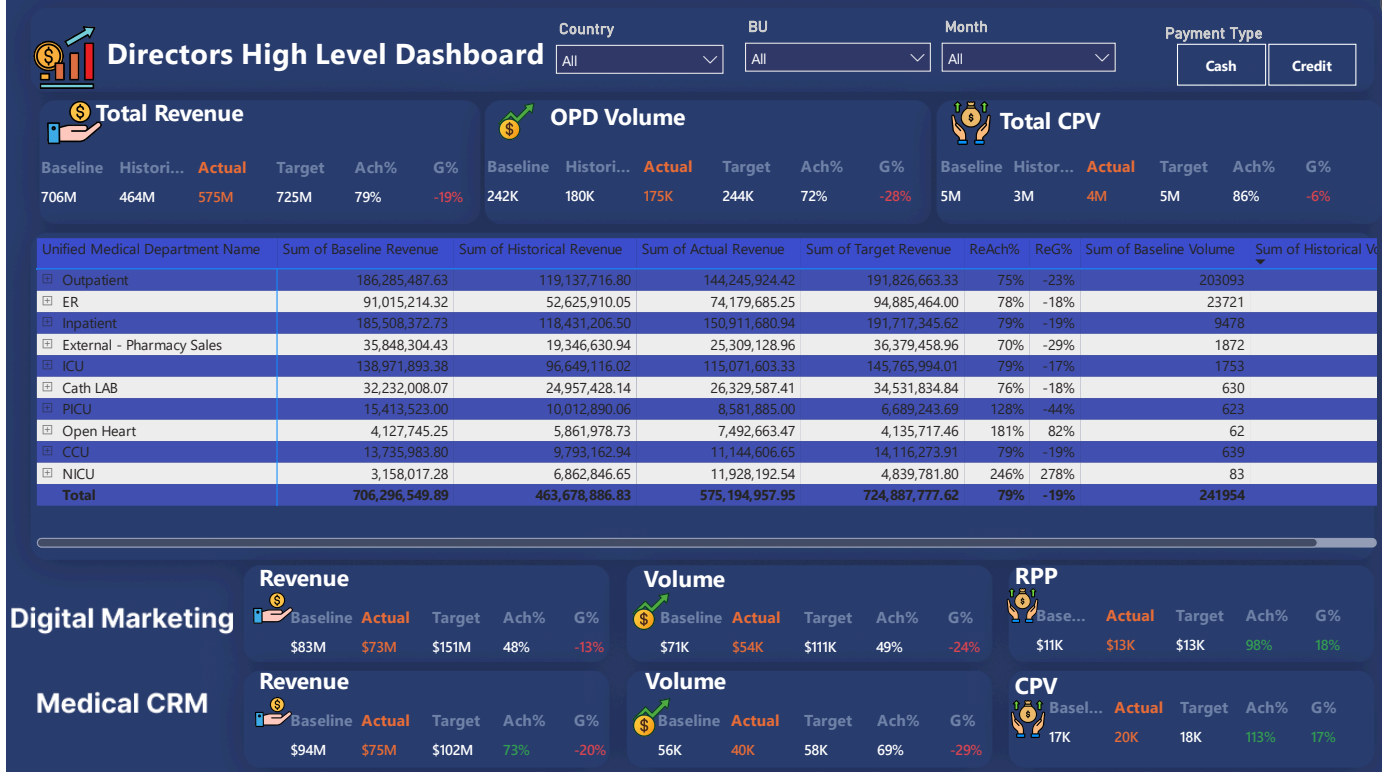

This screenshot's page, from the dashboard's own definition file:
{"tool":"powerbi","page":{"name":"Page 1","canvas":[1280,720],"ordinal":0},"visuals":[{"type":"slicer","fields":{"Values":["Billing Data.Country Name"]},"box":[500.7,13.3,176.1,73.6],"z":0},{"type":"cardVisual","fields":{"Data":["Sum(Billing Data.Baseline Revenue)","Sum(Billing Data.Historical Revenue)","Sum(Billing Data.Actual Revenue)","Sum(Billing Data.Target Revenue)","Billing Data.ReAch%","Billing Data.G%"]},"box":[22.7,100,449.3,134.7],"z":1000},{"type":"textbox","box":[78.4,83.2,199.1,56.7],"z":2000},{"type":"image","box":[37.4,88.1,50.7,49.5],"z":3000},{"type":"textbox","box":[88.1,24.1,574.3,150.8],"z":4000},{"type":"slicer","fields":{"Values":["Billing Data.Payment Type"]},"box":[1065.3,17.3,214.7,66.7],"z":5000},{"type":"slicer","fields":{"Values":["Billing Data.BU"]},"box":[676.8,10.9,193,65.1],"z":6000},{"type":"slicer","fields":{"Values":["Marketing Data.Month"]},"box":[860.2,10.9,182.2,70],"z":7000},{"type":"image","box":[25.3,24.1,57.9,57.9],"z":8000},{"type":"textbox","box":[500.7,86.9,176.1,49.5],"z":9000},{"type":"image","box":[439.1,90.5,70,45.8],"z":10000},{"type":"cardVisual","fields":{"Data":["Sum(Billing Data.Baseline Volume)","Sum(Billing Data.Historical Volume)","Sum(Billing Data.Actual Volume)","Sum(Billing Data.Target Volume)","Billing Data.OAch%","Billing Data.OG%"]},"box":[438.5,98.7,448.7,134.6],"z":11000},{"type":"textbox","box":[919.3,90.5,176.1,49.5],"z":12000},{"type":"image","box":[860.2,94.1,72.4,39.8],"z":13000},{"type":"cardVisual","fields":{"Data":["Sum(Billing Data.Baseline C/V)","Sum(Billing Data.Historical C/V)","Sum(Billing Data.Actual C/V)","Sum(Billing Data.Target C/V)","Billing Data.CpAch%","Billing Data.CpG%"]},"box":[860,113.3,420,105.3],"z":14000},{"type":"textbox","box":[230.3,515.8,135.5,43.4],"z":15000},{"type":"image","box":[230.3,538.2,35.5,53.9],"z":16000},{"type":"cardVisual","fields":{"Data":["Sum(Marketing Data.Baseline Revenue)","Sum(Marketing Data.Actual Revenue)","Sum(Marketing Data.Target Revenue)","Marketing Data.Ach","Marketing Data.G"]},"box":[255.3,538.2,343.4,96.1],"z":17000},{"type":"textbox","box":[230.3,611.8,135.5,43.4],"z":18000},{"type":"image","box":[230.7,634.7,34.7,53.3],"z":19000},{"type":"cardVisual","fields":{"Data":["Sum(Marketing Data.Baseline Volume)","Sum(Marketing Data.Actual Volume)","Sum(Marketing Data.Target Volume)","Marketing Data.VAch%","Marketing Data.VG%"]},"box":[598.7,538.2,346.1,96.1],"z":20000},{"type":"textbox","box":[588.2,517.1,230.3,48.7],"z":21000},{"type":"image","box":[563.2,546.1,71.1,46.1],"z":22000},{"type":"textbox","box":[932.9,514.5,230.3,48.7],"z":23000},{"type":"image","box":[928.9,543.4,31.6,39.5],"z":24000},{"type":"cardVisual","fields":{"Data":["Sum(Marketing Data.Baseline RPP)","Sum(Marketing Data.Actual RPP)","Sum(Marketing Data.Target RPP)","Marketing Data.RppACH%","Marketing Data.RppG%"]},"box":[944.7,535.5,335.5,96.1],"z":25000},{"type":"textbox","box":[589.3,612,229.3,49.3],"z":26000},{"type":"image","box":[564,644,70.7,46.7],"z":27000},{"type":"textbox","box":[933.3,616,93.3,42.7],"z":28000},{"type":"cardVisual","fields":{"Data":["Sum(Medical CRM Data.Baseline Revenue)","Sum(Medical CRM Data.Actual Revenue)","Sum(Medical CRM Data.Target Revenue)","Medical CRM Data.RAch%","Medical CRM Data.RG%"]},"box":[254.7,644,344,76],"z":29000},{"type":"cardVisual","fields":{"Data":["Sum(Medical CRM Data.Baseline Volume)","Sum(Medical CRM Data.Actual Volume)","Sum(Medical CRM Data.Target Volume)","Medical CRM Data.VAch%%","Medical CRM Data.VG%%"]},"box":[597.3,644,350.7,76],"z":30000},{"type":"cardVisual","fields":{"Data":["Sum(Medical CRM Data.Baseline CPV)","Sum(Medical CRM Data.Actual CPV)","Sum(Medical CRM Data.Target CPV)","Medical CRM Data.CAch%","Medical CRM Data.CG%"]},"box":[961.3,620,318.7,100],"z":31000},{"type":"image","box":[933.3,648,34.7,40],"z":32000},{"type":"pivotTable","fields":{"Rows":["Billing Data.Unified Medical Department Name","Billing Data.Payment Type"],"Values":["Sum(Billing Data.Baseline Revenue)","Sum(Billing Data.Historical Revenue)","Sum(Billing Data.Actual Revenue)","Sum(Billing Data.Target Revenue)","Billing Data.ReAch%","Billing Data.ReG%","Sum(Billing Data.Baseline Volume)","Sum(Billing Data.Historical Volume)"]},"box":[22.9,216,1257.1,298],"z":33000}]}

Visuals, with their boxes in screenshot pixels (x1, y1, x2, y2), scaled from the page's 1280x720 canvas onto the 1382x772 screenshot:
slicer - Billing Data.Country Name: [left=541, top=14, right=731, bottom=93]
cardVisual - Sum(Billing Data.Baseline Revenue) x Sum(Billing Data.Historical Revenue): [left=25, top=107, right=510, bottom=252]
textbox: [left=85, top=89, right=300, bottom=150]
image: [left=40, top=94, right=95, bottom=148]
textbox: [left=95, top=26, right=715, bottom=188]
slicer - Billing Data.Payment Type: [left=1150, top=19, right=1381, bottom=90]
slicer - Billing Data.BU: [left=731, top=12, right=939, bottom=81]
slicer - Marketing Data.Month: [left=929, top=12, right=1125, bottom=87]
image: [left=27, top=26, right=90, bottom=88]
textbox: [left=541, top=93, right=731, bottom=146]
image: [left=474, top=97, right=550, bottom=146]
cardVisual - Sum(Billing Data.Baseline Volume) x Sum(Billing Data.Historical Volume): [left=473, top=106, right=958, bottom=250]
textbox: [left=993, top=97, right=1183, bottom=150]
image: [left=929, top=101, right=1007, bottom=144]
cardVisual - Sum(Billing Data.Baseline C/V) x Sum(Billing Data.Historical C/V): [left=929, top=121, right=1381, bottom=234]
textbox: [left=249, top=553, right=395, bottom=600]
image: [left=249, top=577, right=287, bottom=635]
cardVisual - Sum(Marketing Data.Baseline Revenue) x Sum(Marketing Data.Actual Revenue): [left=276, top=577, right=646, bottom=680]
textbox: [left=249, top=656, right=395, bottom=703]
image: [left=249, top=681, right=287, bottom=738]
cardVisual - Sum(Marketing Data.Baseline Volume) x Sum(Marketing Data.Actual Volume): [left=646, top=577, right=1020, bottom=680]
textbox: [left=635, top=554, right=884, bottom=607]
image: [left=608, top=586, right=685, bottom=635]
textbox: [left=1007, top=552, right=1256, bottom=604]
image: [left=1003, top=583, right=1037, bottom=625]
cardVisual - Sum(Marketing Data.Baseline RPP) x Sum(Marketing Data.Actual RPP): [left=1020, top=574, right=1381, bottom=677]
textbox: [left=636, top=656, right=884, bottom=709]
image: [left=609, top=691, right=685, bottom=741]
textbox: [left=1008, top=660, right=1108, bottom=706]
cardVisual - Sum(Medical CRM Data.Baseline Revenue) x Sum(Medical CRM Data.Actual Revenue): [left=275, top=691, right=646, bottom=771]
cardVisual - Sum(Medical CRM Data.Baseline Volume) x Sum(Medical CRM Data.Actual Volume): [left=645, top=691, right=1024, bottom=771]
cardVisual - Sum(Medical CRM Data.Baseline CPV) x Sum(Medical CRM Data.Actual CPV): [left=1038, top=665, right=1381, bottom=771]
image: [left=1008, top=695, right=1045, bottom=738]
pivotTable - Billing Data.Unified Medical Department Name x Billing Data.Payment Type: [left=25, top=232, right=1381, bottom=551]
